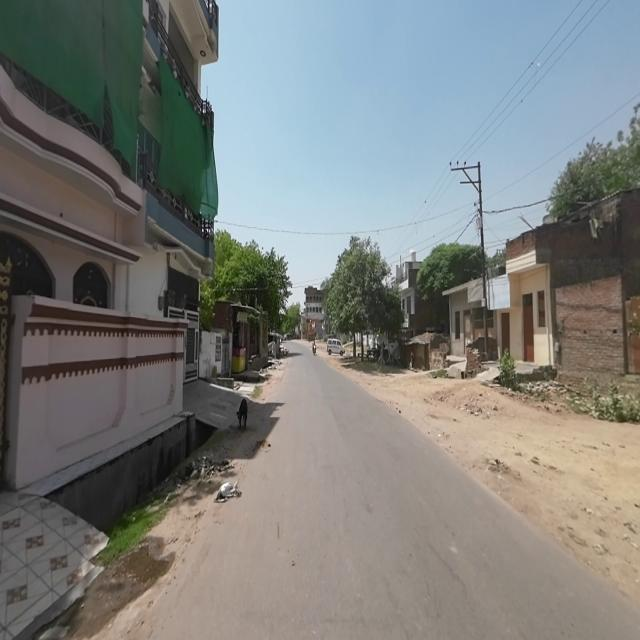Garbage: (187, 456, 232, 476), (216, 481, 242, 503)
